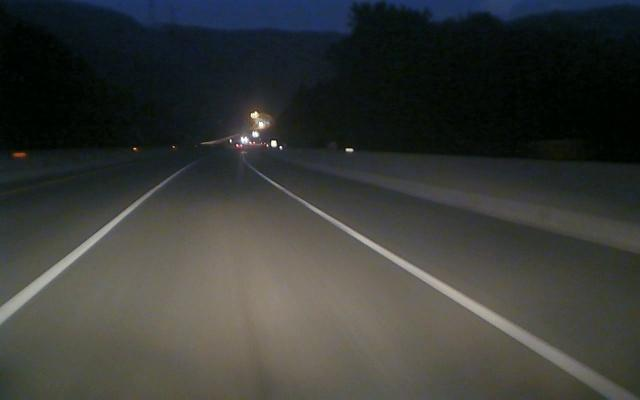lane: (269, 181, 640, 400), (0, 182, 165, 326)
